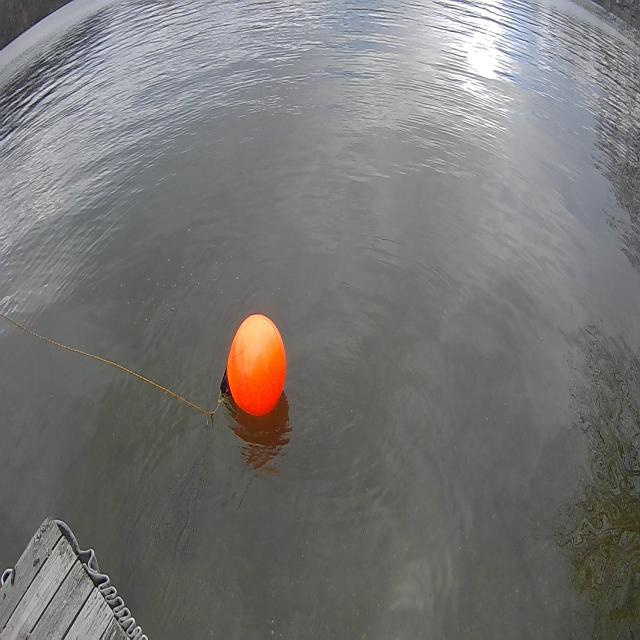Buoy: (225, 308, 289, 421)
